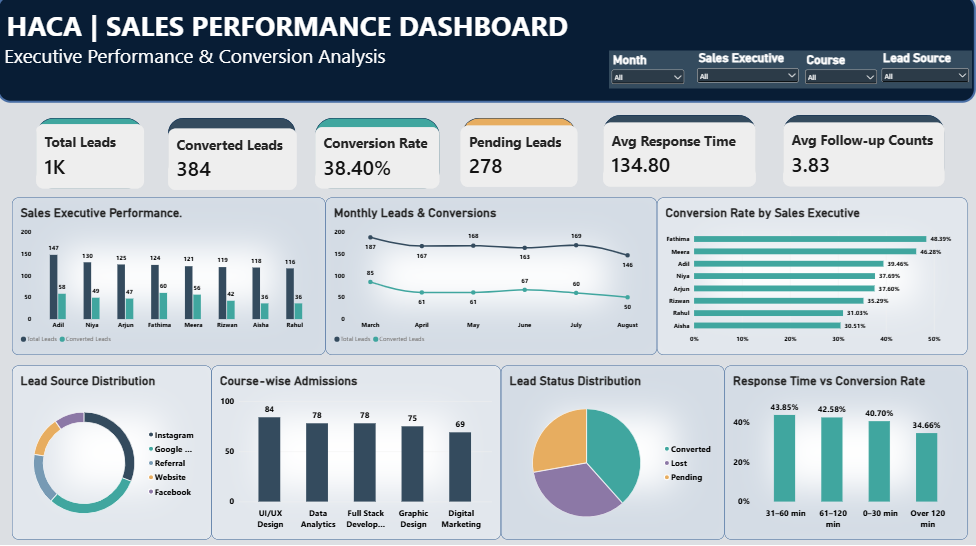

What the dashboard file says about the page in this screenshot:
{"tool":"powerbi","page":{"name":"Page 1","canvas":[1920,1080],"ordinal":0},"visuals":[{"type":"shape","box":[1541.7,236.1,316.7,138.9],"z":0},{"type":"shape","box":[1188.9,236.1,300,138.9],"z":1000},{"type":"shape","box":[911.8,241.2,223.5,132.4],"z":2000},{"type":"shape","box":[622.2,241.7,244.4,138.9],"z":3000},{"type":"shape","box":[75,241.7,211.1,138.9],"z":4000},{"type":"shape","box":[336.1,241.7,250,119.4],"z":5000},{"type":"cardVisual","fields":{"Data":["HACA_Sales_Performance_1000_Rows.Total Leads"]},"box":[76.5,252.9,211.8,126.5],"z":6000},{"type":"cardVisual","fields":{"Data":["HACA_Sales_Performance_1000_Rows.Converted Leads"]},"box":[335.3,261.8,252.9,120.6],"z":7000},{"type":"cardVisual","fields":{"Data":["HACA_Sales_Performance_1000_Rows.Conversion Rate"]},"box":[623.5,258.8,244.1,120.6],"z":8000},{"type":"cardVisual","fields":{"Data":["HACA_Sales_Performance_1000_Rows.Pending Leads"]},"box":[908.8,255.9,229.4,120.6],"z":9000},{"type":"cardVisual","fields":{"Data":["HACA_Sales_Performance_1000_Rows.Avg Response Time"]},"box":[1188.9,250,300,126.2],"z":10000},{"type":"cardVisual","fields":{"Data":["Avg(HACA_Sales_Performance_1000_Rows.Follow-up Count)"]},"box":[1541.7,250,316.7,125],"z":11000},{"type":"clusteredColumnChart","title":"Sales Executive Performance.","fields":{"Category":["HACA_Sales_Performance_1000_Rows.Sales Executive"],"Y":["HACA_Sales_Performance_1000_Rows.Total Leads","HACA_Sales_Performance_1000_Rows.Converted Leads"]},"box":[29.4,397.1,614.7,308.8],"z":12000},{"type":"lineChart","title":"Monthly Leads & Conversions","fields":{"Category":["HACA_Sales_Performance_1000_Rows.Month.Variation.Date Hierarchy.Month"],"Y":["HACA_Sales_Performance_1000_Rows.Total Leads","HACA_Sales_Performance_1000_Rows.Converted Leads"]},"box":[644.1,397.1,650,308.8],"z":13000},{"type":"donutChart","title":"Lead Source Distribution","fields":{"Category":["HACA_Sales_Performance_1000_Rows.Lead Source"],"Y":["HACA_Sales_Performance_1000_Rows.Total Leads"]},"box":[29.4,726.5,391.2,341.2],"z":14000},{"type":"clusteredBarChart","title":"Conversion Rate by Sales Executive","fields":{"Category":["HACA_Sales_Performance_1000_Rows.Sales Executive"],"Y":["HACA_Sales_Performance_1000_Rows.Conversion Rate"]},"box":[1294.4,397.2,608.3,308.3],"z":15000},{"type":"pieChart","title":"Lead Status Distribution","fields":{"Category":["HACA_Sales_Performance_1000_Rows.Lead Status"],"Y":["HACA_Sales_Performance_1000_Rows.Total Leads"]},"box":[988.2,726.5,438.2,341.2],"z":16000},{"type":"clusteredColumnChart","title":"Course-wise Admissions","fields":{"Category":["HACA_Sales_Performance_1000_Rows.Course"],"Y":["HACA_Sales_Performance_1000_Rows.Converted Leads"]},"box":[420.6,726.5,567.6,341.2],"z":17000},{"type":"clusteredColumnChart","title":"Response Time vs Conversion Rate","fields":{"Category":["HACA_Sales_Performance_1000_Rows.Response Time Group"],"Y":["HACA_Sales_Performance_1000_Rows.Conversion Rate"]},"box":[1426.5,726.5,476.5,341.2],"z":18000},{"type":"textbox","box":[0,0,1919.4,211.1],"z":19000},{"type":"slicer","fields":{"Values":["HACA_Sales_Performance_1000_Rows.Month"]},"box":[1199.8,112.9,152.5,67.5],"z":20000,"group":"g1"},{"type":"slicer","fields":{"Values":["HACA_Sales_Performance_1000_Rows.Sales Executive"]},"box":[1367.1,109.8,209.1,69.7],"z":21000,"group":"g1"},{"type":"slicer","fields":{"Values":["HACA_Sales_Performance_1000_Rows.Course"]},"box":[1579.5,112.2,150.8,69.2],"z":22000,"group":"g1"},{"type":"slicer","fields":{"Values":["HACA_Sales_Performance_1000_Rows.Lead Source"]},"box":[1729.8,109.8,181.3,62],"z":23000,"group":"g1"},{"type":"group","id":"g1","title":"Group 1","box":[1199.8,109.8,711.3,71.6],"z":23001}]}

Visuals, with their boxes in screenshot pixels (x1, y1, x2, y2), scaled from the page's 1920x1080 canvas onto the 976x546 screenshot:
shape: select_region(784, 119, 945, 190)
shape: select_region(604, 119, 757, 190)
shape: select_region(463, 122, 577, 189)
shape: select_region(316, 122, 441, 192)
shape: select_region(38, 122, 145, 192)
shape: select_region(171, 122, 298, 183)
cardVisual - HACA_Sales_Performance_1000_Rows.Total Leads: select_region(39, 128, 147, 192)
cardVisual - HACA_Sales_Performance_1000_Rows.Converted Leads: select_region(170, 132, 299, 193)
cardVisual - HACA_Sales_Performance_1000_Rows.Conversion Rate: select_region(317, 131, 441, 192)
cardVisual - HACA_Sales_Performance_1000_Rows.Pending Leads: select_region(462, 129, 579, 190)
cardVisual - HACA_Sales_Performance_1000_Rows.Avg Response Time: select_region(604, 126, 757, 190)
cardVisual - Avg(HACA_Sales_Performance_1000_Rows.Follow-up Count): select_region(784, 126, 945, 190)
"Sales Executive Performance." clusteredColumnChart: select_region(15, 201, 327, 357)
"Monthly Leads & Conversions" lineChart: select_region(327, 201, 658, 357)
"Lead Source Distribution" donutChart: select_region(15, 367, 214, 540)
"Conversion Rate by Sales Executive" clusteredBarChart: select_region(658, 201, 967, 357)
"Lead Status Distribution" pieChart: select_region(502, 367, 725, 540)
"Course-wise Admissions" clusteredColumnChart: select_region(214, 367, 502, 540)
"Response Time vs Conversion Rate" clusteredColumnChart: select_region(725, 367, 967, 540)
textbox: select_region(0, 0, 975, 107)
slicer - HACA_Sales_Performance_1000_Rows.Month: select_region(610, 57, 687, 91)
slicer - HACA_Sales_Performance_1000_Rows.Sales Executive: select_region(695, 56, 801, 91)
slicer - HACA_Sales_Performance_1000_Rows.Course: select_region(803, 57, 880, 92)
slicer - HACA_Sales_Performance_1000_Rows.Lead Source: select_region(879, 56, 971, 87)
"Group 1" group: select_region(610, 56, 971, 92)
